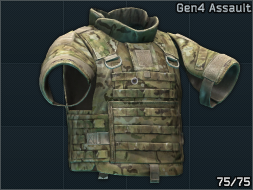IOTV Gen4 body armor assault kit: (0, 0, 253, 190)
